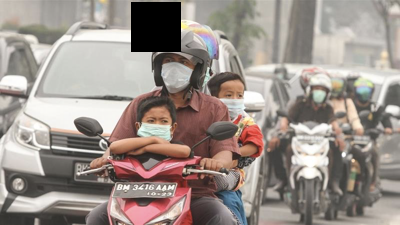with_mask: (159, 55, 194, 94), (137, 114, 172, 142), (219, 89, 245, 120), (311, 86, 327, 105)
